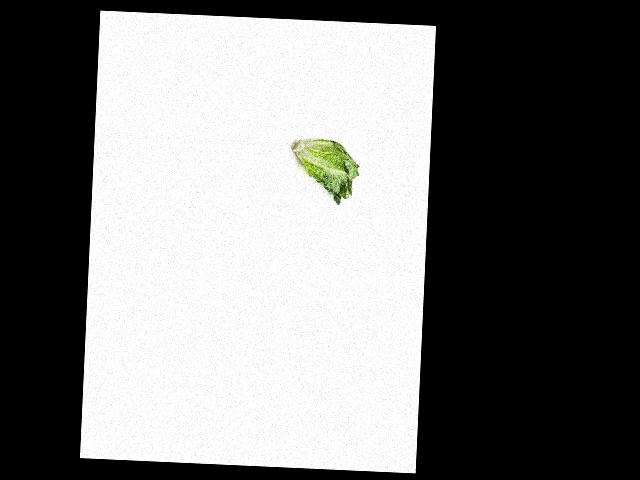lettuce: (292, 135, 363, 205)
